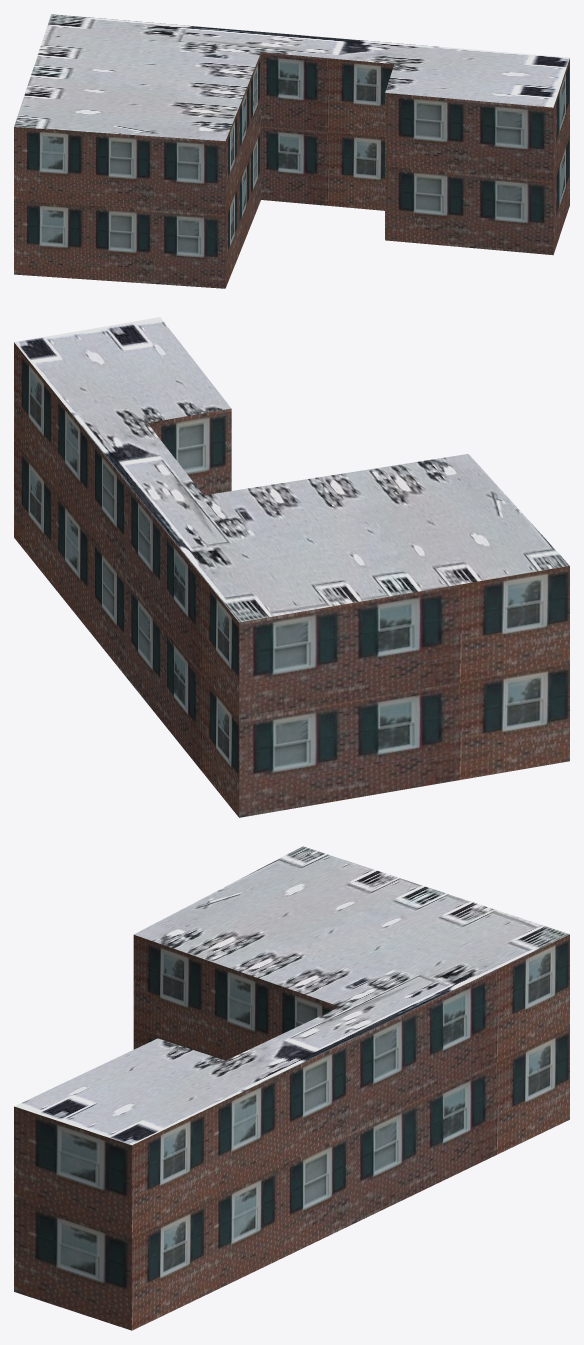
File: ResTex__1927.fbx
The picture shows the model from 3 angles, top to bottom: view 1: azimuth 30°, elevation 25°; view 2: azimuth 150°, elevation 25°; view 3: azimuth 270°, elevation 25°; orthographic projection. The views are drawn at different scales.
Visible parts, largest first — view 1: CityEngineMaterial_14_m, CityEngineMaterial_4_m; view 2: CityEngineMaterial_14_m, CityEngineMaterial_4_m; view 3: CityEngineMaterial_14_m, CityEngineMaterial_4_m.
Boxes of the visible parts, x1,y1,x2,y2 form: CityEngineMaterial_14_m: (14,52,569,288); CityEngineMaterial_4_m: (14,14,569,141); CityEngineMaterial_14_m: (14,342,569,817); CityEngineMaterial_4_m: (14,317,569,622); CityEngineMaterial_14_m: (14,934,569,1330); CityEngineMaterial_4_m: (14,846,569,1145).
Bounding box in the file's own units: 20.76 × 6 × 16.31.
Materials: 2 (2 with a texture image).
